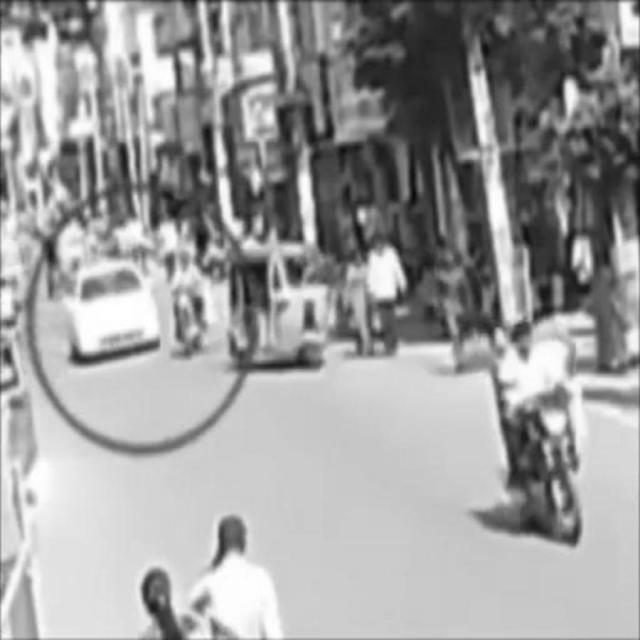person: (370, 235, 402, 359)
vehicle: (490, 323, 588, 540), (227, 251, 327, 365), (64, 258, 162, 360), (169, 252, 215, 354)
